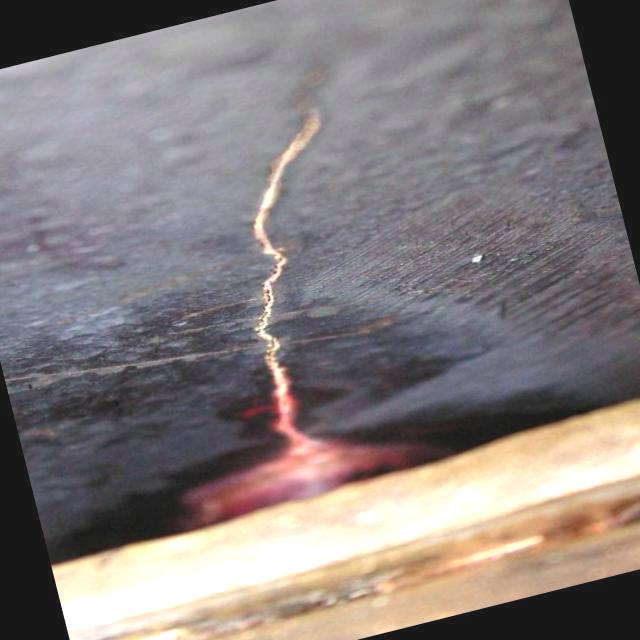defect: (248, 67, 329, 457)
